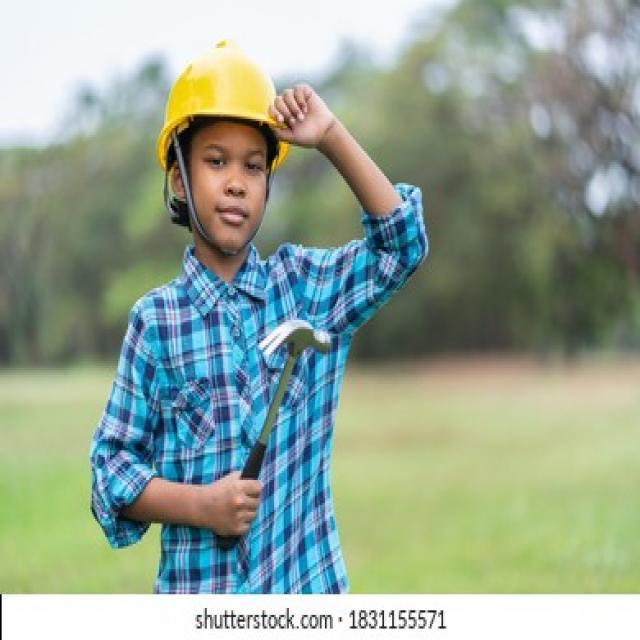hammer: (212, 314, 339, 566)
